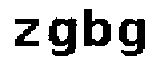b: (80, 5, 112, 48)
g: (116, 16, 148, 59), (47, 17, 79, 57)
z: (11, 17, 43, 51)
